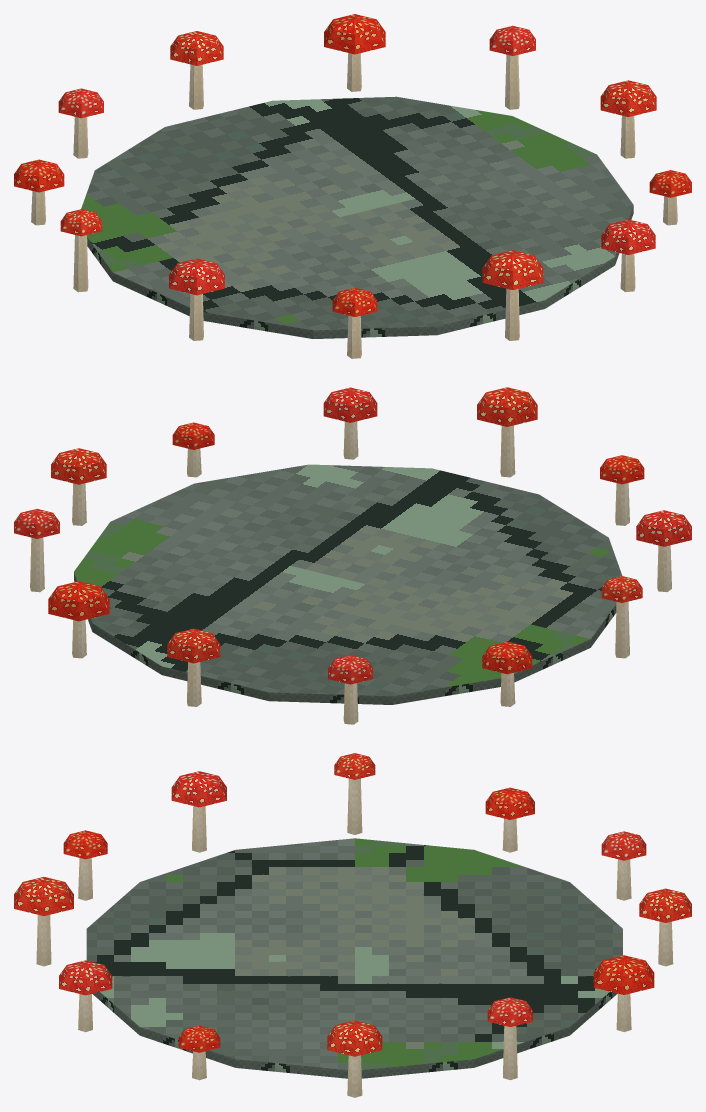
The model's file is fairy_ring.glb.
3 views of the same model, one above another, from view 1: azimuth 30°, elevation 25°; view 2: azimuth 150°, elevation 25°; view 3: azimuth 270°, elevation 25° (orthographic).
Parts seen in each view (by area): view 1: fairy_ring; view 2: fairy_ring; view 3: fairy_ring.
Part boxes in pixels (x1,y1,x2,y2): fairy_ring: [14, 14, 691, 358]; fairy_ring: [14, 387, 691, 724]; fairy_ring: [14, 753, 691, 1097].
Size of the model in its own units: 5.66 by 0.7517 by 5.67.
Materials: 4 (4 with a texture image).
